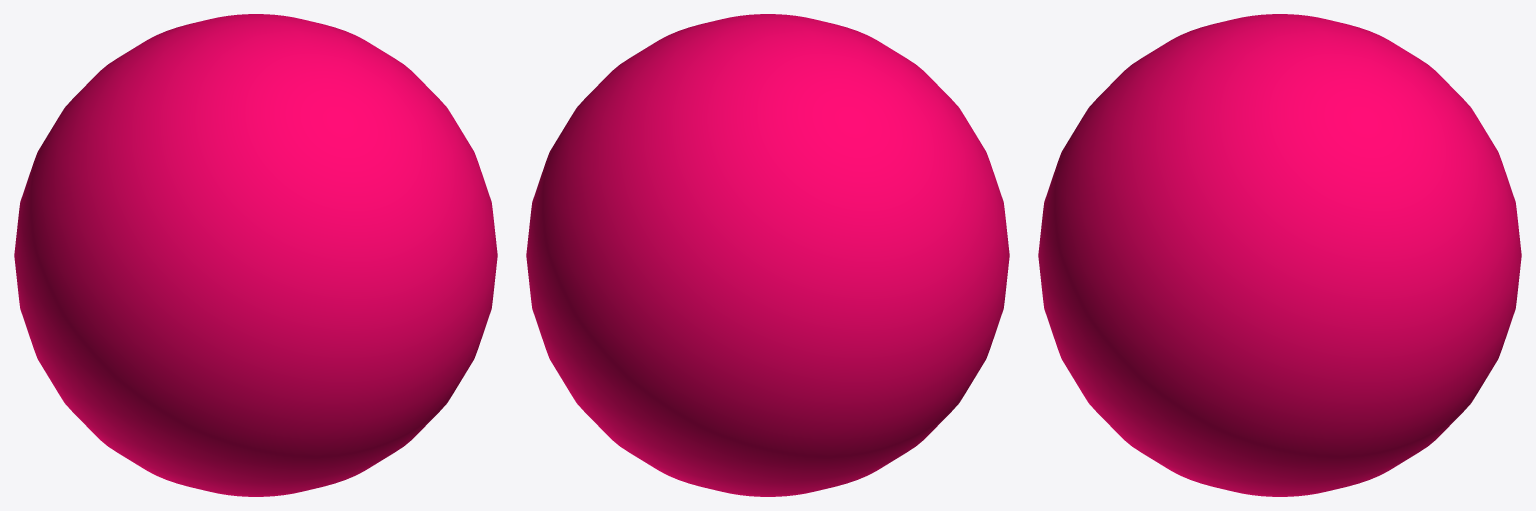
Rendered from pink_orb.fbx.
3 views of the same model, side by side, from view 1: azimuth 30°, elevation 25°; view 2: azimuth 150°, elevation 25°; view 3: azimuth 270°, elevation 25° (orthographic).
Parts seen in each view (by area): view 1: Sphere; view 2: Sphere; view 3: Sphere.
Boxes of the visible parts, x1=… form: Sphere: x1=14, y1=14, x2=497, y2=496; Sphere: x1=526, y1=14, x2=1009, y2=496; Sphere: x1=1038, y1=14, x2=1521, y2=496.
Size of the model in its own units: 100 by 100 by 100.
